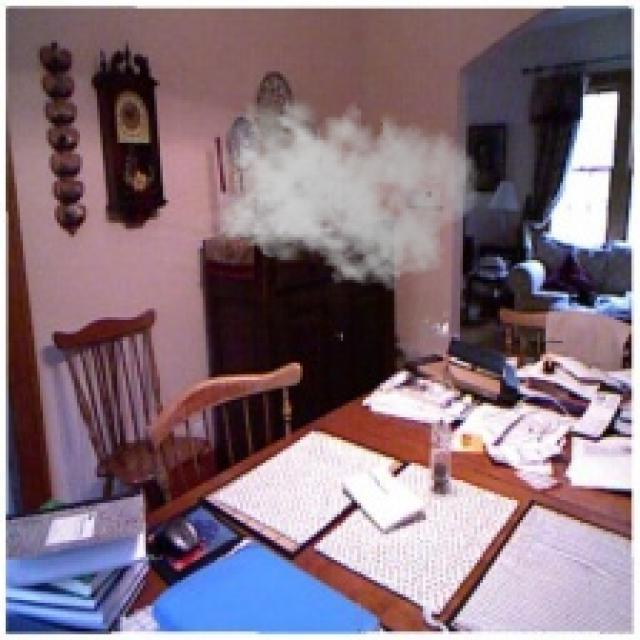Smoke: (211, 88, 480, 292)
